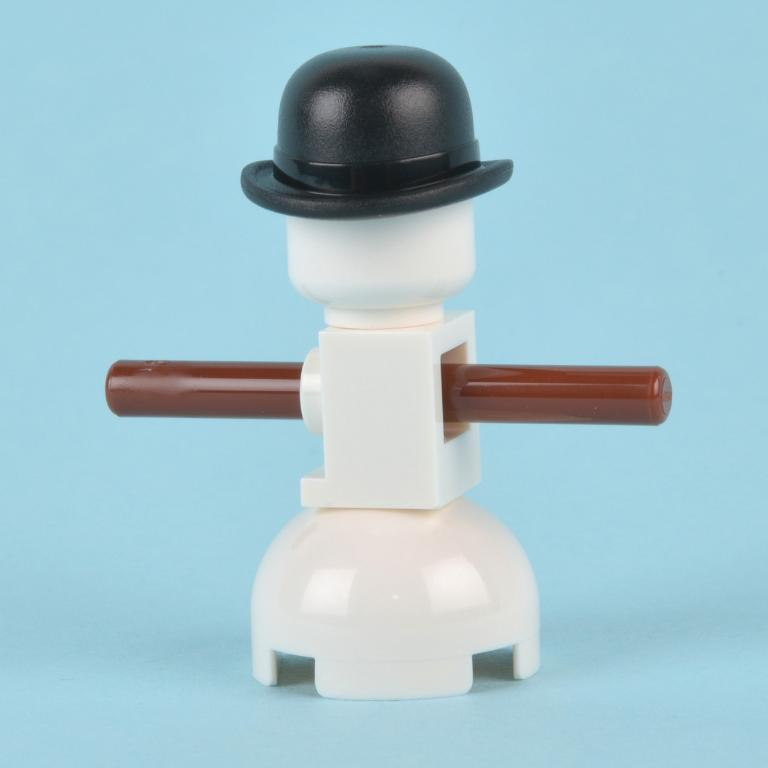Hat: (240, 45, 512, 218)
